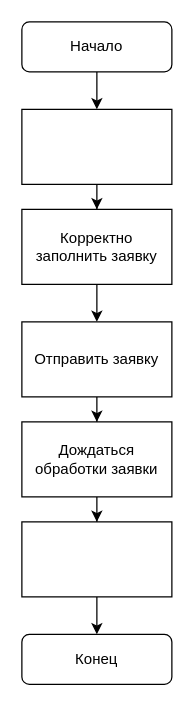
The diagram is 194 pixels wide and 706 high, and some of its shapes have lost their labels. Each missing label, with the box of its shape:
Зайти на главную страницу: (21, 108, 172, 184)
Получить номер отправления: (21, 521, 172, 597)
